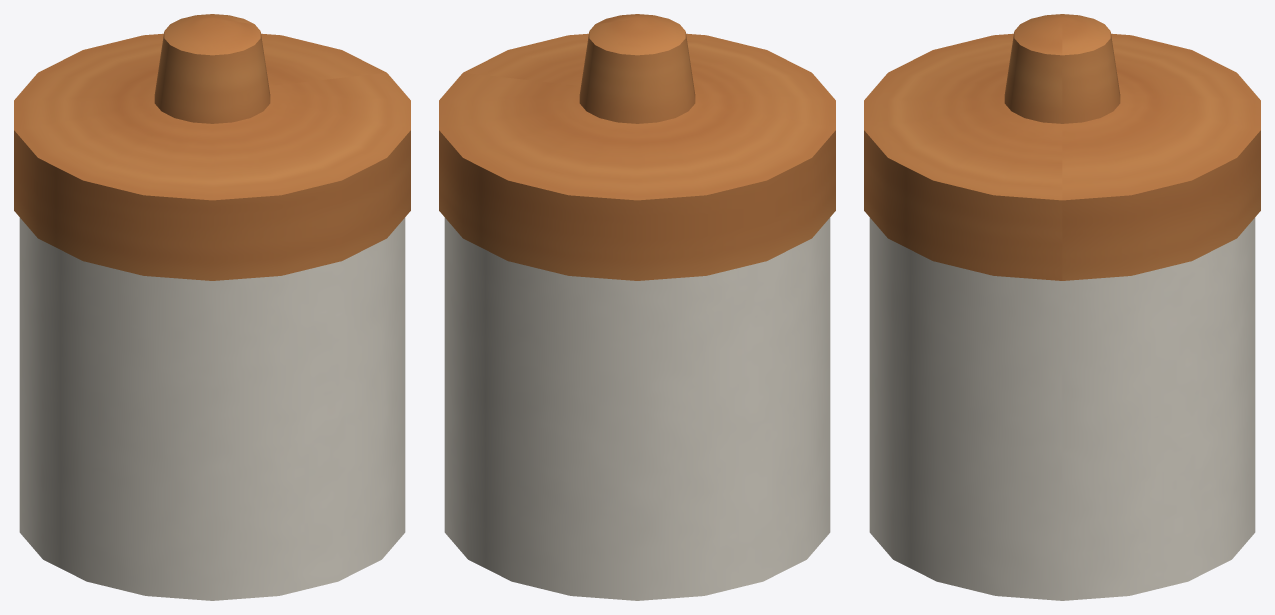
The model's file is SM_Canister_S.fbx.
The picture shows the model from 3 angles, left to right: view 1: azimuth 30°, elevation 25°; view 2: azimuth 150°, elevation 25°; view 3: azimuth 270°, elevation 25°; orthographic projection.
Parts seen in each view (by area): view 1: SM_Canister_S; view 2: SM_Canister_S; view 3: SM_Canister_S.
Part boxes in pixels (<box>): SM_Canister_S: <box>14,14,410,600</box>; SM_Canister_S: <box>439,14,835,600</box>; SM_Canister_S: <box>864,14,1260,600</box>.
Size of the model in its own units: 0.1133 by 0.155 by 0.1116.
2 materials, 2 textured.
